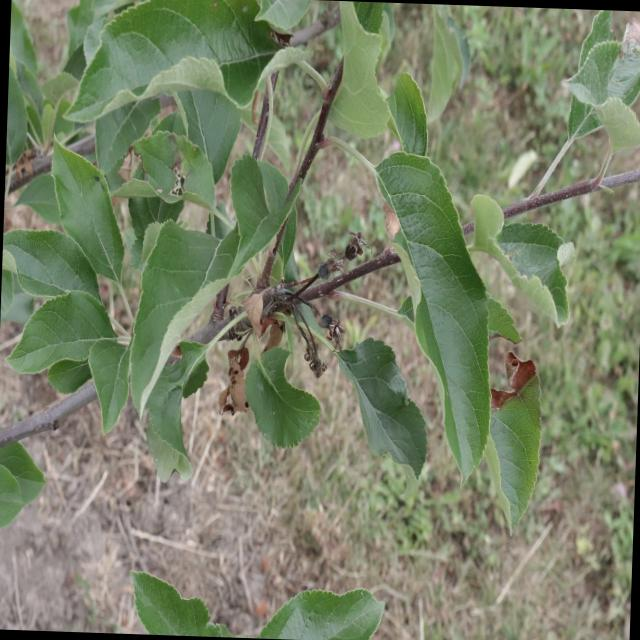-FireBlight-: (220, 348, 248, 412), (244, 286, 279, 334)
